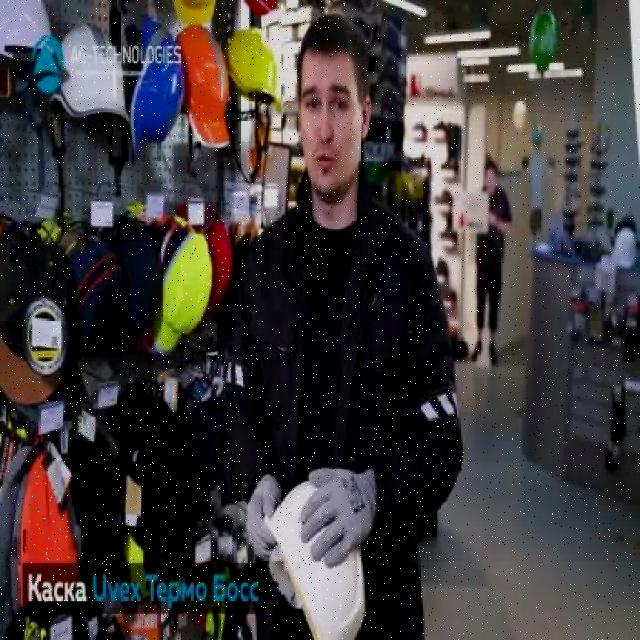Gloves: (298, 465, 380, 570), (246, 474, 279, 560)
Helmet: (262, 478, 368, 638), (49, 21, 131, 122), (129, 13, 183, 162), (177, 24, 231, 150), (226, 27, 282, 113), (0, 0, 58, 75)
